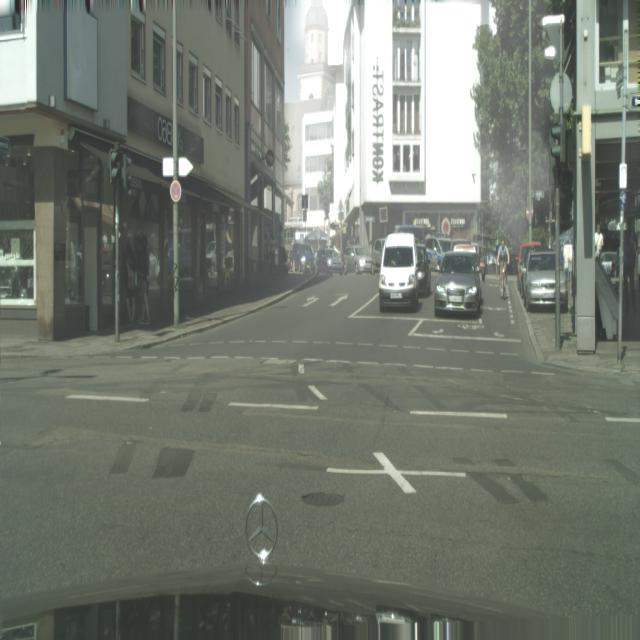car: (497, 239, 509, 295)
person: (136, 234, 151, 326), (623, 228, 637, 312)
truck: (378, 233, 420, 314), (434, 249, 482, 319), (524, 249, 569, 312), (517, 241, 541, 295), (289, 242, 317, 276), (415, 242, 432, 297), (314, 247, 345, 277), (425, 235, 448, 274), (344, 245, 372, 274), (371, 237, 386, 274)
